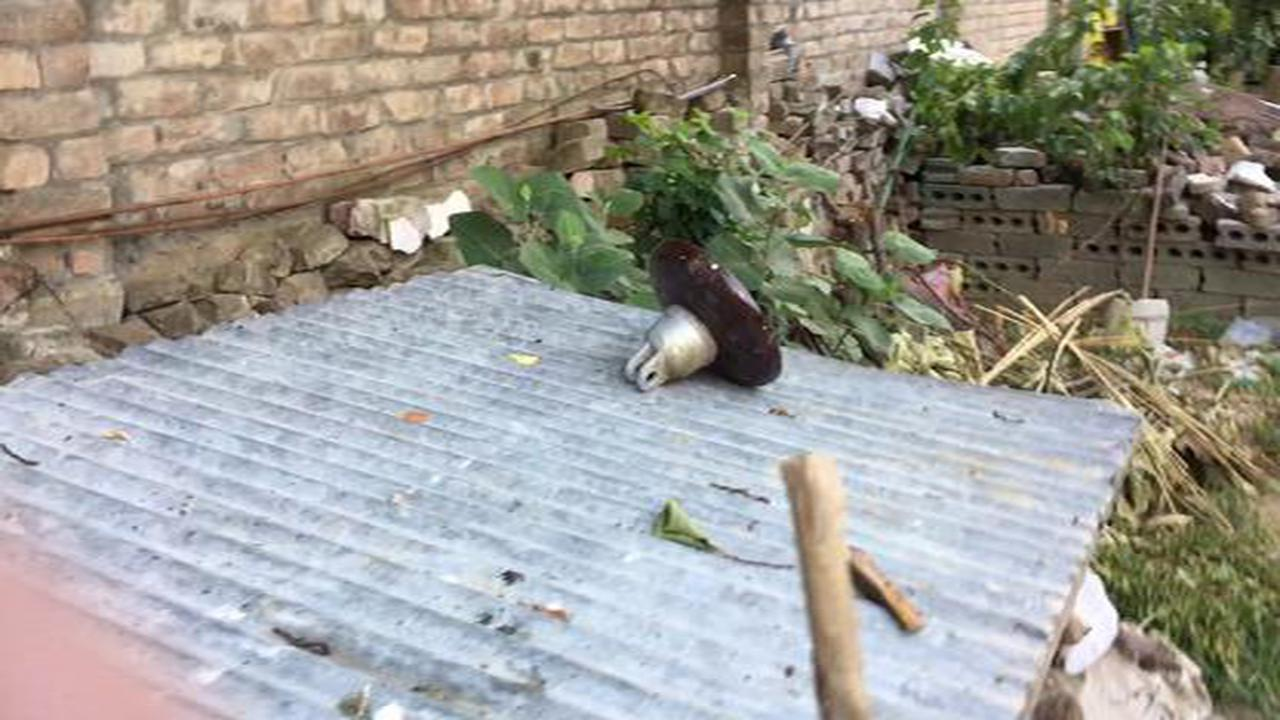insulator_disc: (621, 232, 787, 403)
